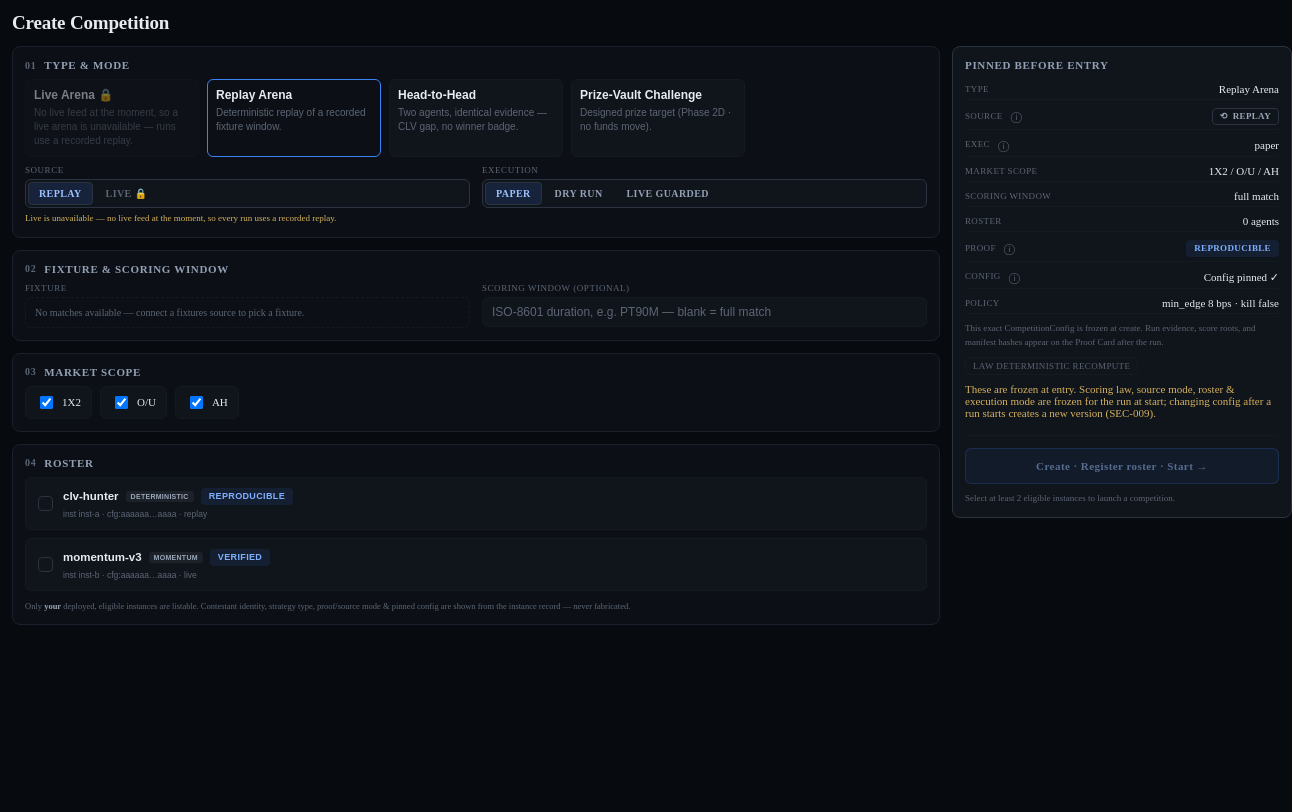
CreateCompetitionScreen — launch progression (F-4 · create→register→start) › happy path: create → register each instance-bound entry → start → navigate to the arena
The width and height of the screenshot is (1292, 812).
Click the button with test id "roster-inst-a" at (91, 496), box [25, 477, 927, 530]
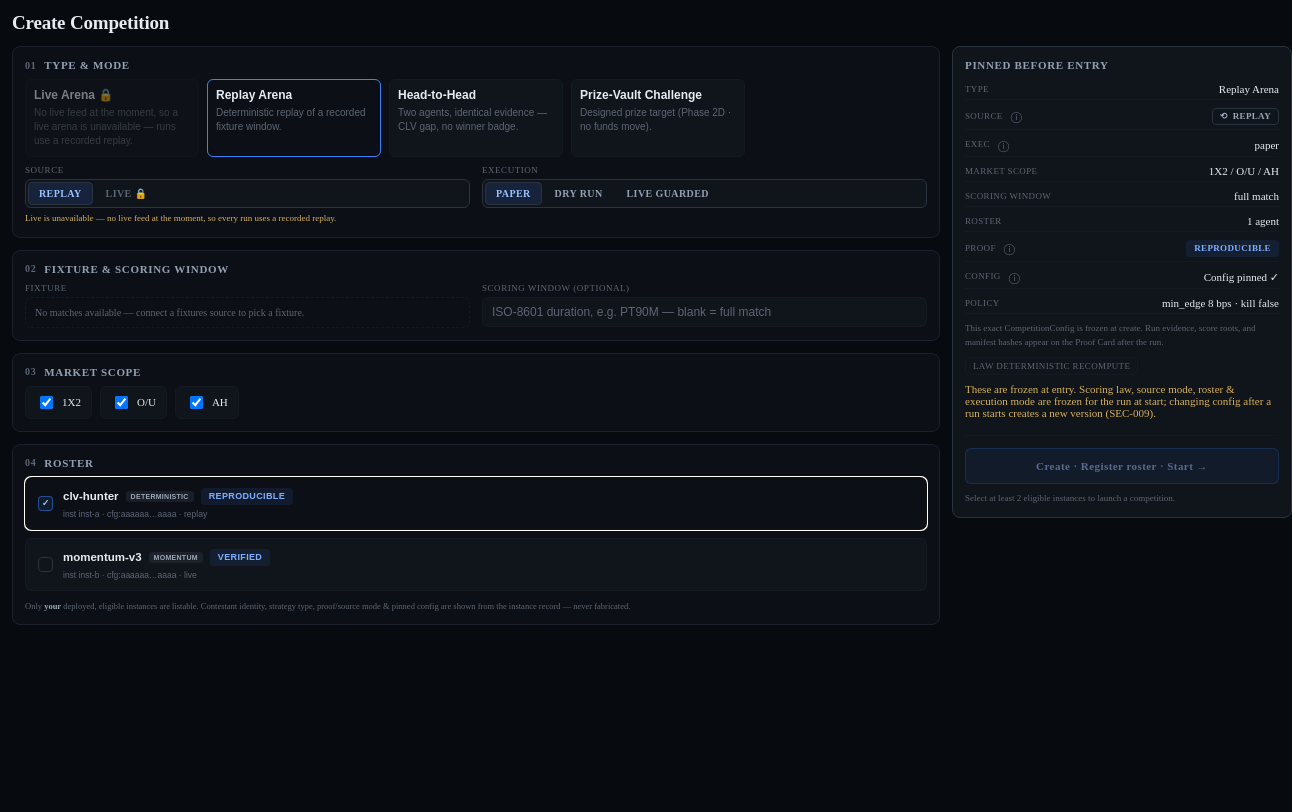
Click the button with test id "roster-inst-b" at (102, 557), box [25, 538, 927, 591]
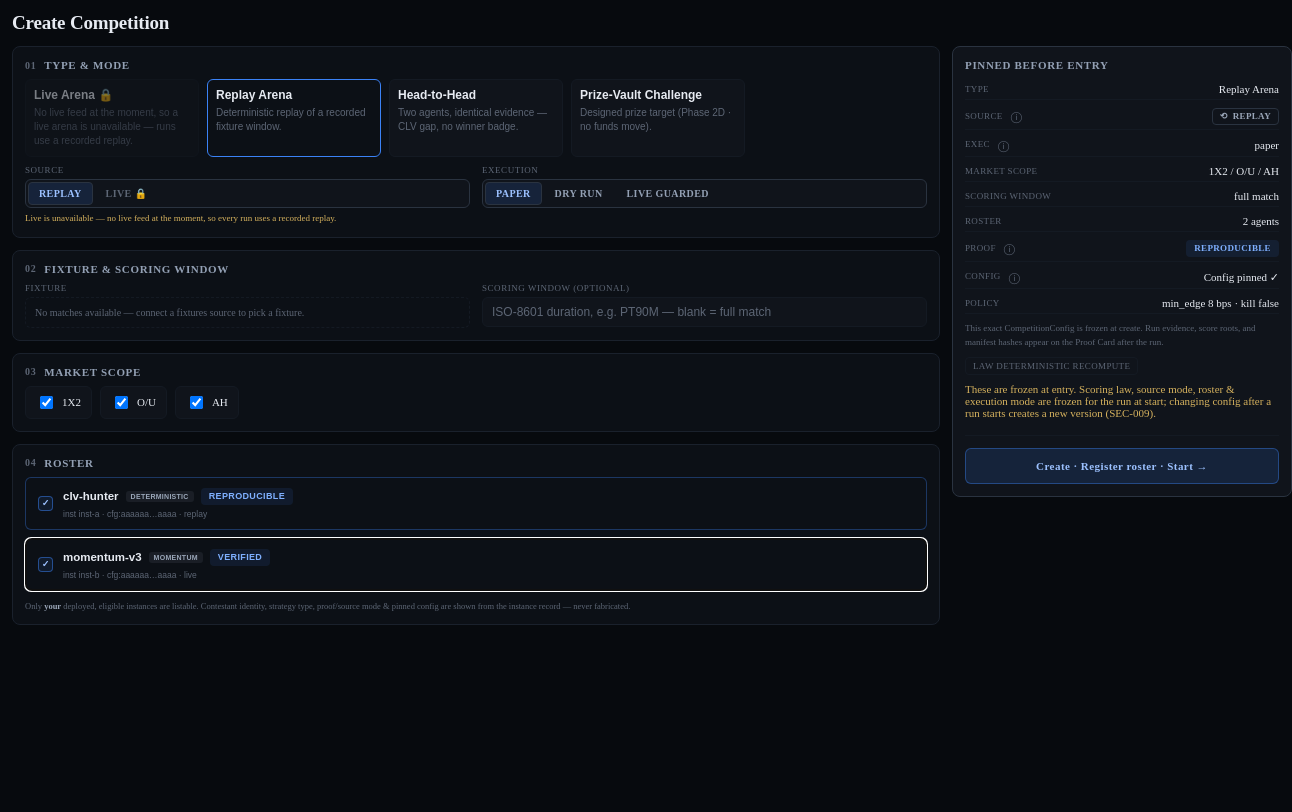
Click the button with test id "launch-button" at (1122, 466), box [965, 448, 1279, 484]
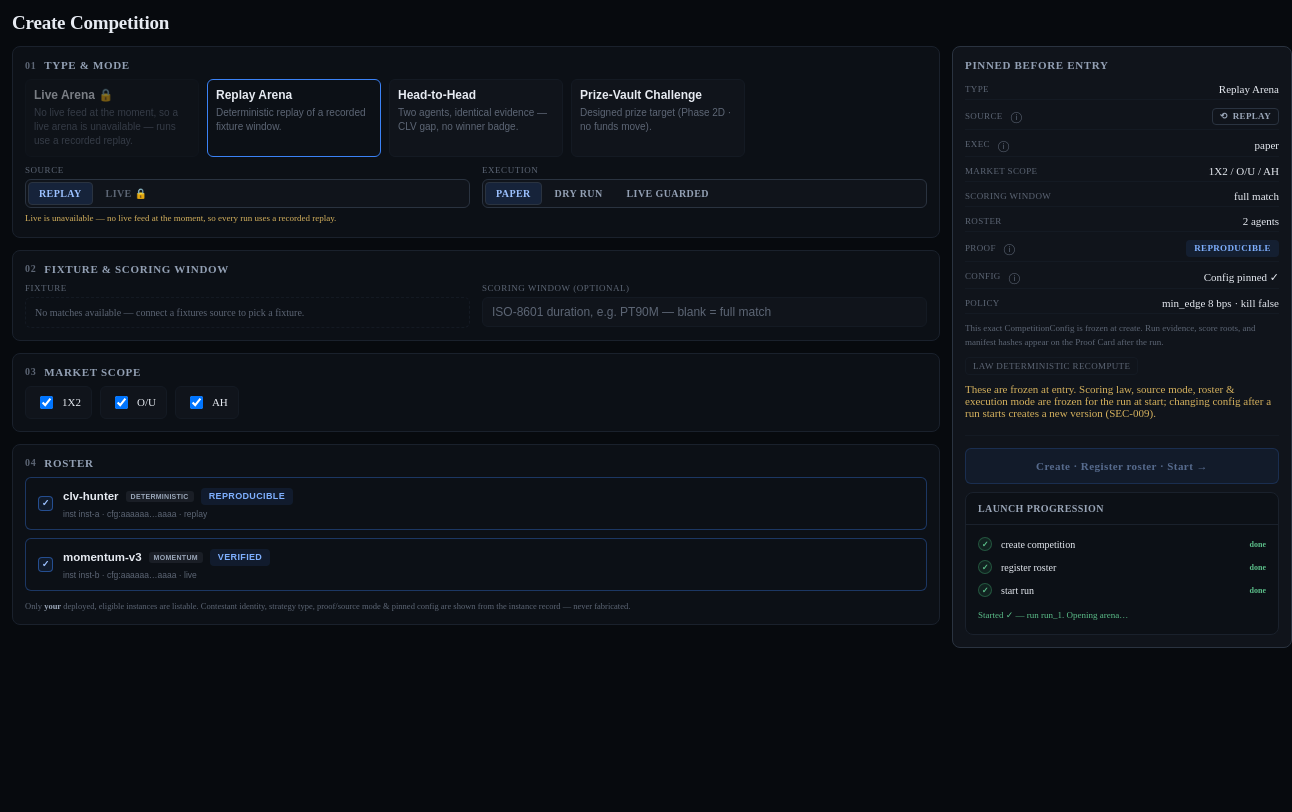
Check: the element with test id "launch-started" is shown, box [978, 610, 1128, 620]
